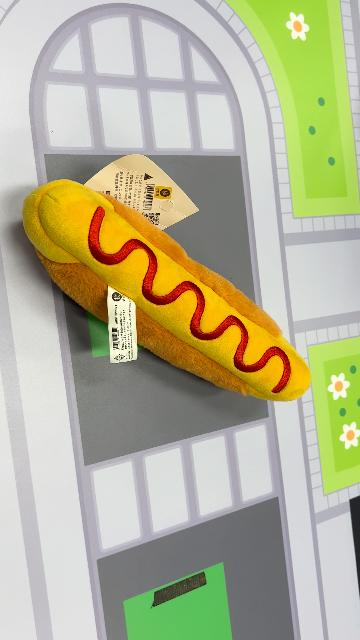hotdog: (22, 178, 312, 404)
